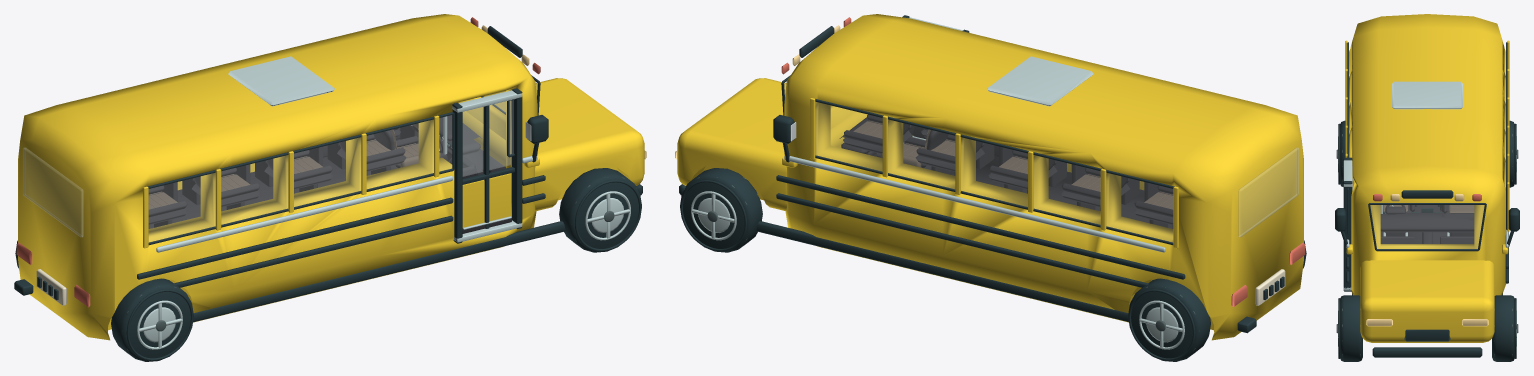
The model's file is schoolbus.glb.
3 renders of one model, left to right at view 1: azimuth 30°, elevation 25°; view 2: azimuth 150°, elevation 25°; view 3: azimuth 270°, elevation 25°, orthographic. The views are drawn at different scales.
Visible parts, largest first — view 1: Paint schoolbus, Automotive glass.005, Tyre rubber.005, Rolling wheels.005, Cabin upholstery.005, Wheel hubs.005, Tailored cabin leather.005, Tail lamp.005; view 2: Paint schoolbus, Automotive glass.005, Tyre rubber.005, Rolling wheels.005, Cabin upholstery.005, Wheel hubs.005, Tailored cabin leather.005, Tail lamp.005; view 3: Paint schoolbus, Tyre rubber.005, Automotive glass.005, Rolling wheels.005, Cabin upholstery.005, Wheel hubs.005, Headlamp.005, Tailored cabin leather.005.
Part boxes in pixels (x1=…): Paint schoolbus: x1=18, y1=14, x2=644, y2=340; Automotive glass.005: x1=23, y1=82, x2=537, y2=242; Tyre rubber.005: x1=14, y1=26, x2=642, y2=322; Rolling wheels.005: x1=15, y1=168, x2=641, y2=361; Cabin upholstery.005: x1=148, y1=115, x2=511, y2=233; Wheel hubs.005: x1=156, y1=56, x2=537, y2=252; Tailored cabin leather.005: x1=148, y1=123, x2=440, y2=209; Tail lamp.005: x1=16, y1=17, x2=540, y2=307; Paint schoolbus: x1=677, y1=14, x2=1303, y2=340; Automotive glass.005: x1=784, y1=82, x2=1298, y2=242; Tyre rubber.005: x1=679, y1=15, x2=1284, y2=333; Rolling wheels.005: x1=680, y1=168, x2=1306, y2=361; Cabin upholstery.005: x1=839, y1=114, x2=1173, y2=228; Wheel hubs.005: x1=784, y1=17, x2=1165, y2=252; Tailored cabin leather.005: x1=853, y1=121, x2=1173, y2=209; Tail lamp.005: x1=781, y1=17, x2=1305, y2=307; Paint schoolbus: x1=1345, y1=14, x2=1509, y2=342; Tyre rubber.005: x1=1335, y1=42, x2=1519, y2=357; Automotive glass.005: x1=1352, y1=176, x2=1484, y2=248; Rolling wheels.005: x1=1336, y1=120, x2=1518, y2=361; Cabin upholstery.005: x1=1380, y1=205, x2=1474, y2=243; Wheel hubs.005: x1=1343, y1=81, x2=1508, y2=290; Headlamp.005: x1=1366, y1=194, x2=1488, y2=326; Tailored cabin leather.005: x1=1383, y1=205, x2=1474, y2=213.
Size of the model in its own units: 2.94 by 0.9975 by 1.04.
